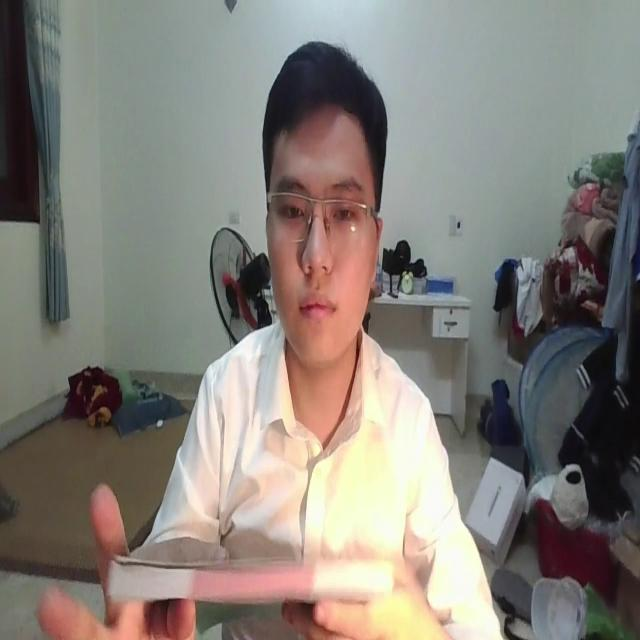book: (106, 519, 396, 609)
student: (39, 37, 498, 640)
